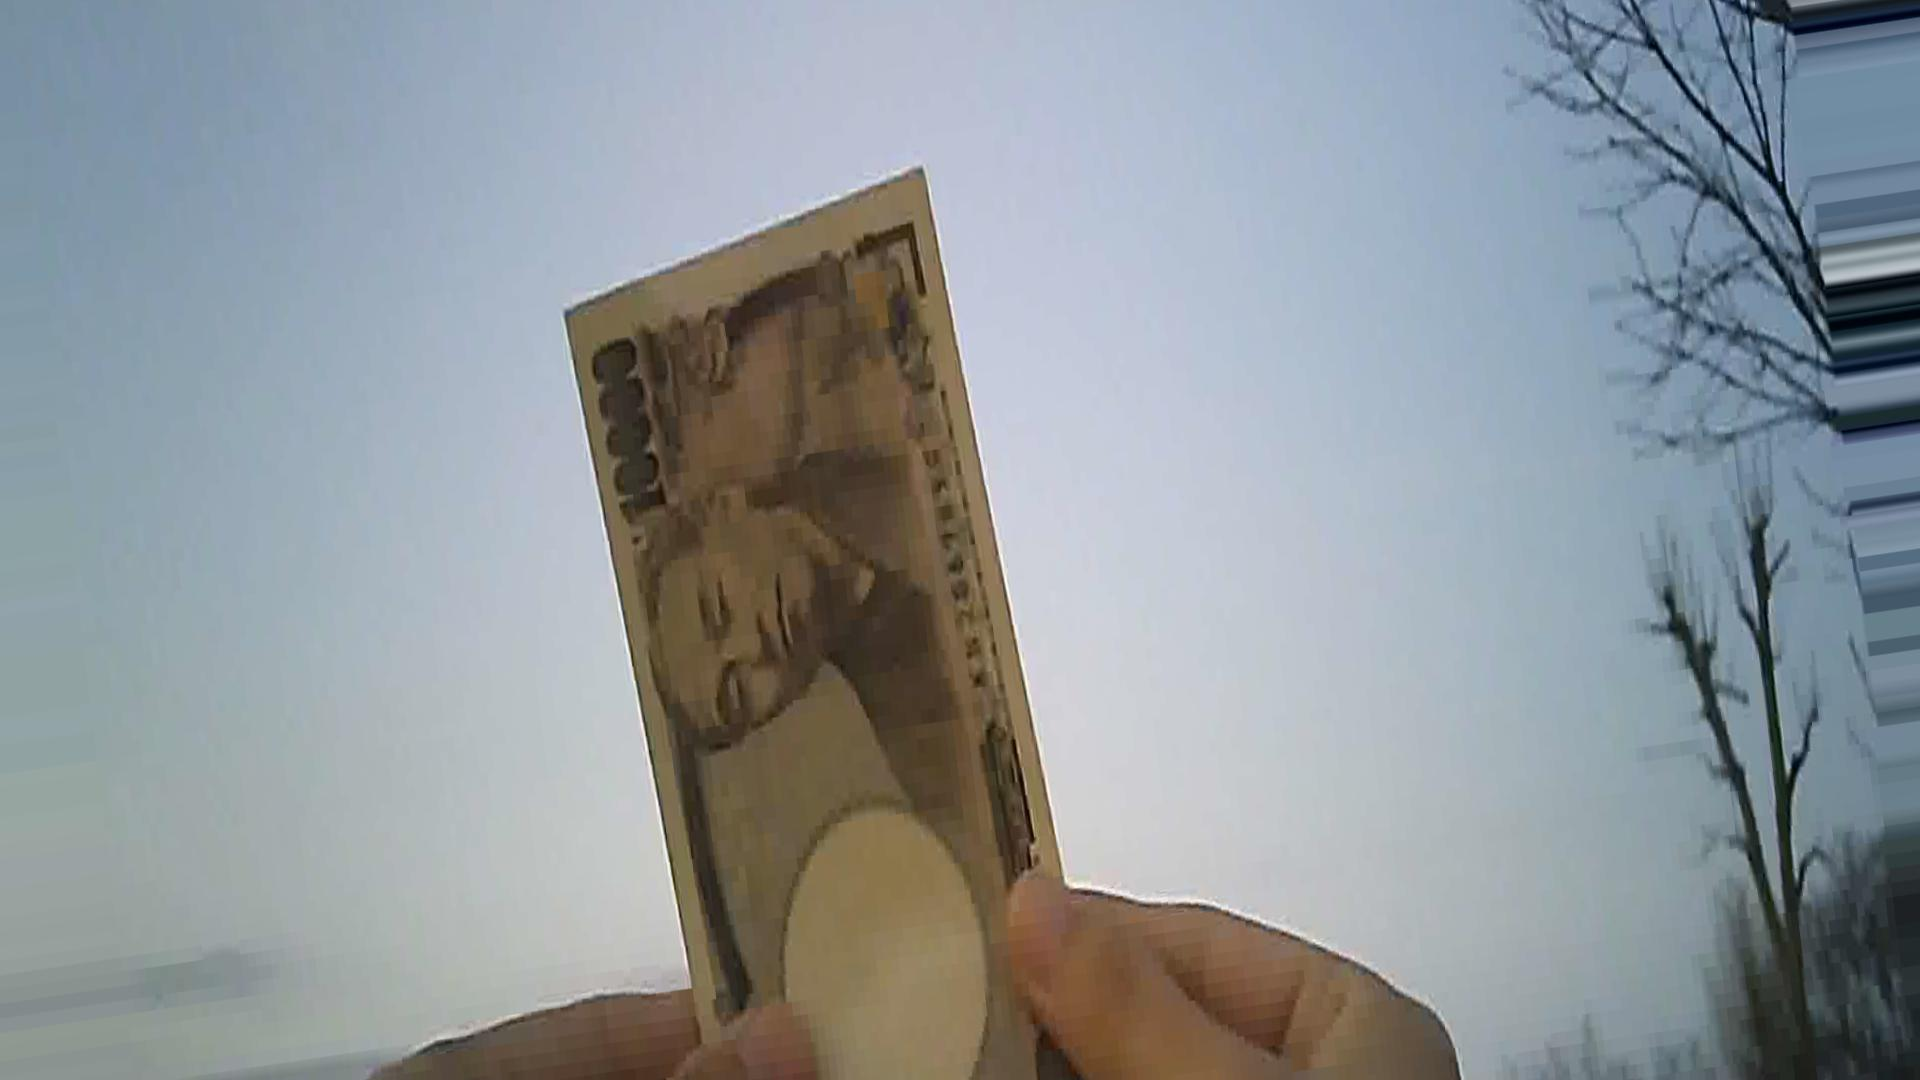10,000 Yen: (537, 170, 1104, 1009)
